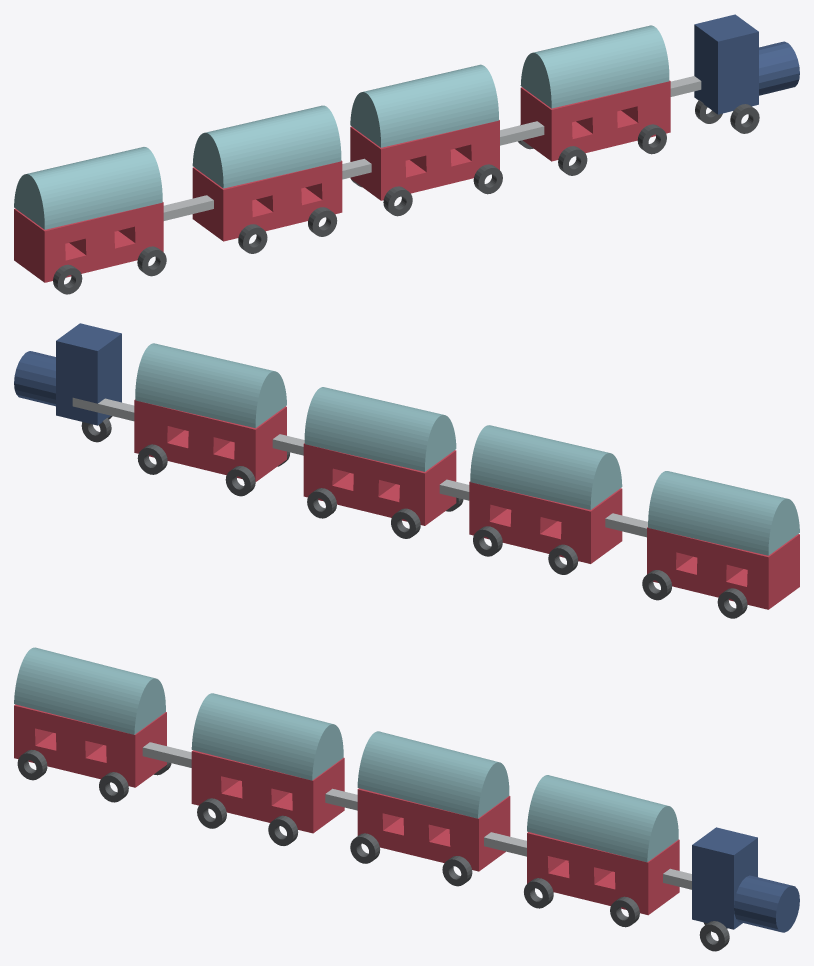
The picture shows the model from 3 angles, top to bottom: view 1: azimuth 30°, elevation 25°; view 2: azimuth 150°, elevation 25°; view 3: azimuth 330°, elevation 25°; orthographic projection. The views are drawn at different scales.
Visible parts, largest first — view 1: Mesh_Mesh_head_geo.001_lambert2SG.001; view 2: Mesh_Mesh_head_geo.001_lambert2SG.001; view 3: Mesh_Mesh_head_geo.001_lambert2SG.001.
Part boxes in pixels (box(x1,y1,x2,y2)): Mesh_Mesh_head_geo.001_lambert2SG.001: box(14, 14, 799, 294); Mesh_Mesh_head_geo.001_lambert2SG.001: box(14, 323, 799, 618); Mesh_Mesh_head_geo.001_lambert2SG.001: box(14, 647, 799, 951).
Bounding box in the file's own units: 183 × 25.35 × 19.
